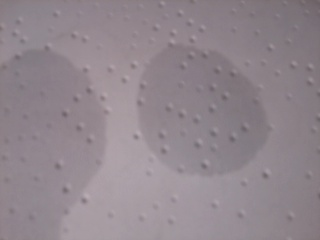Water_detected: (0, 82, 104, 240), (152, 59, 238, 154)
